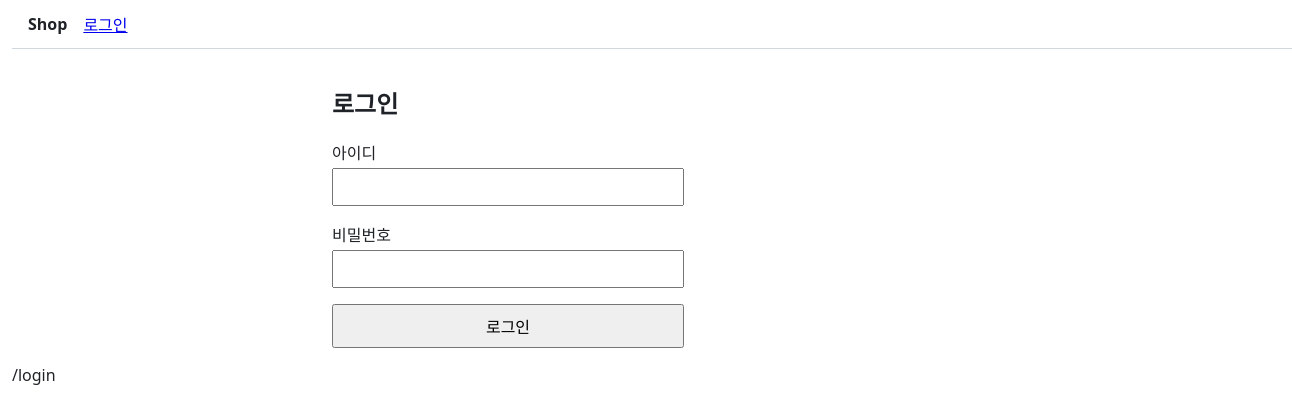
LoginPage › 성공하면 홈으로 이동하고 헤더에 사용자 이름을 보여 준다
In the field labelled "아이디": (508, 187) x1=332 y1=168 x2=684 y2=206, type "user01"
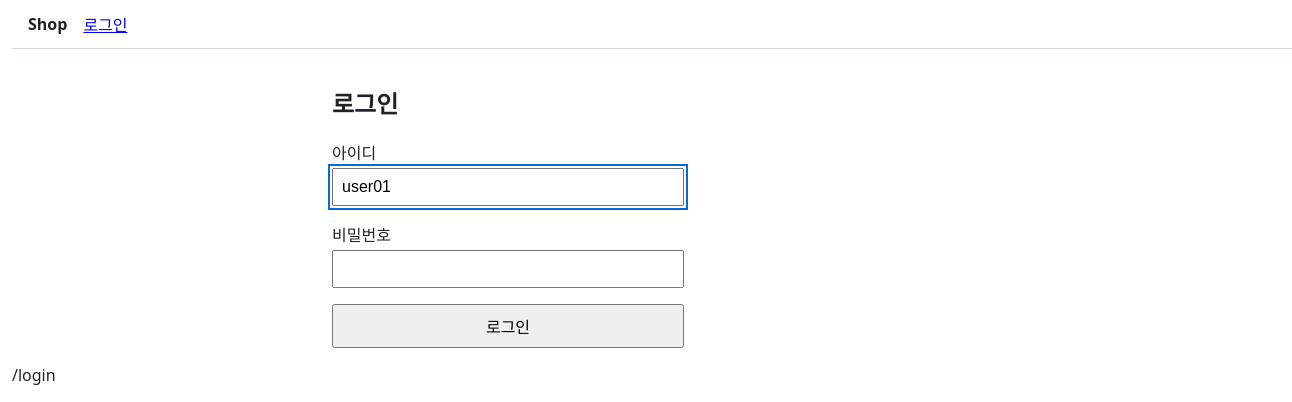
In the password field labelled "비밀번호": (508, 269) x1=332 y1=250 x2=684 y2=288, type "Passw0rd!"
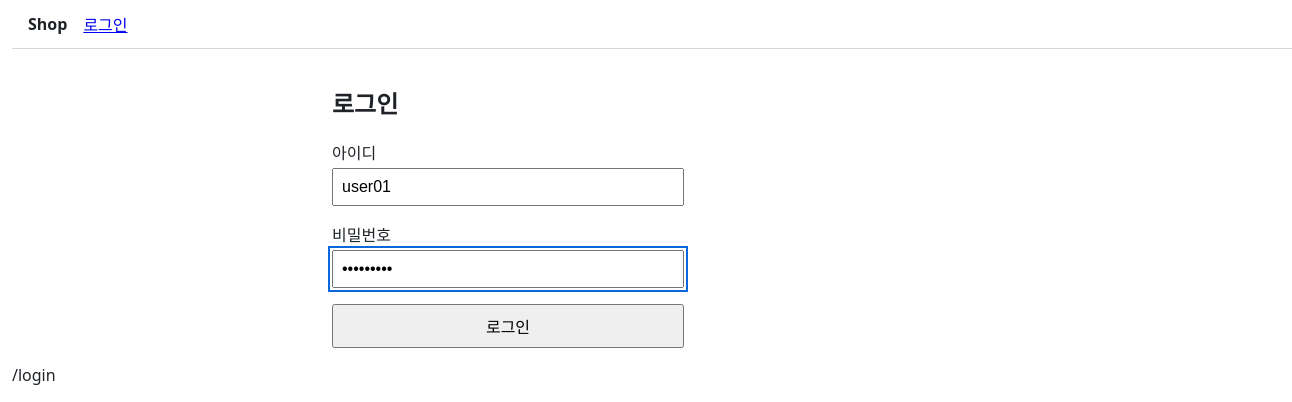
Click the button "로그인": (508, 326) x1=332 y1=304 x2=684 y2=348
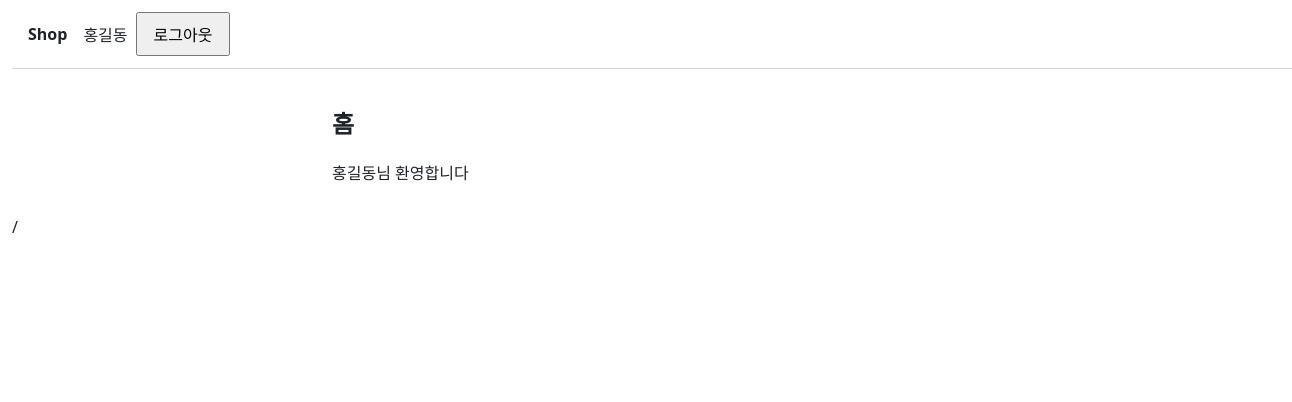
Expected: the text with test id "loc" reads "/", x1=12 y1=216 x2=18 y2=238
Expected: the text "홍길동님 환영합니다" is shown, x1=332 y1=162 x2=469 y2=184
Expected: the button "로그아웃" is shown, x1=136 y1=12 x2=230 y2=56
